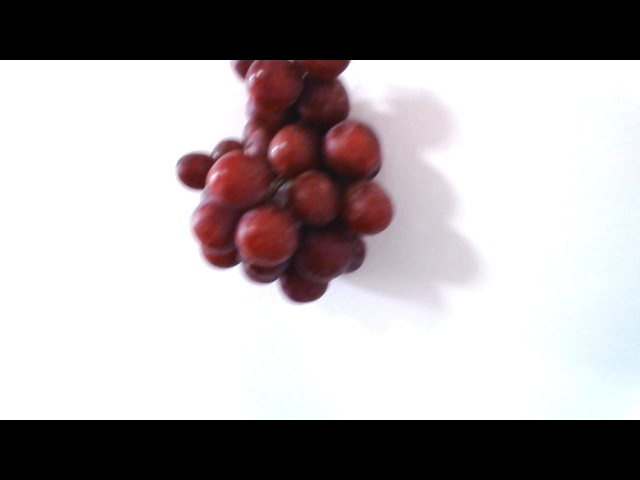grape: (171, 59, 398, 310)
